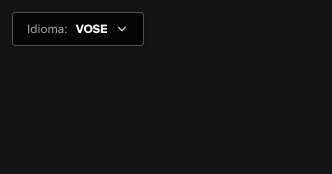
it: CustomSelect › opens, selects an option and closes
The image size is (332, 174).
Click the button "Idioma: VOSE": (78, 29) [12,12,144,46]
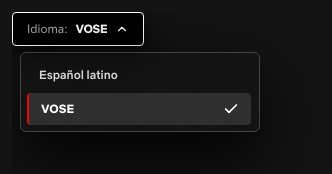
Expected: the button "Idioma: VOSE" is expanded, [12,12,144,46]
Click the option "Español latino": (139, 75) [27,59,251,91]
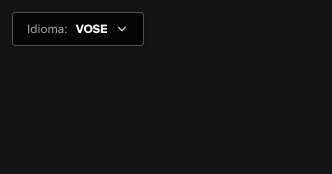
Expected: the list is gone
